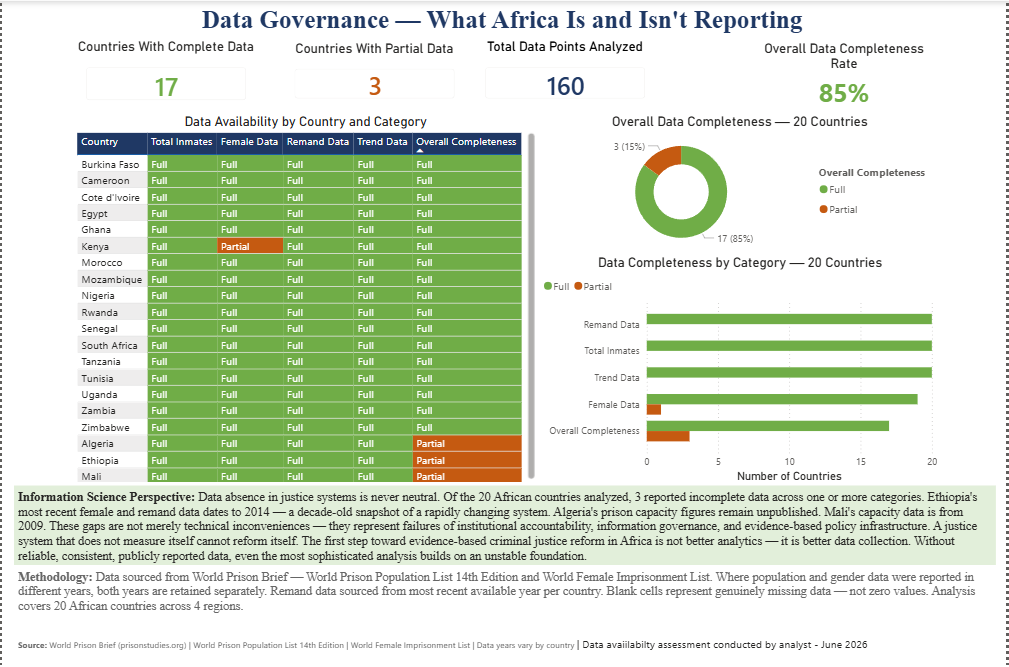

The dashboard page shown, as its layout file describes it:
{"tool":"powerbi","page":{"name":"Data Governance","canvas":[1280,850],"ordinal":4},"visuals":[{"type":"textbox","box":[121.4,0,1029.8,47],"z":0},{"type":"cardVisual","title":"Countries With Complete Data","fields":{"Data":["Data Availability Matrix.Full Data Countries"]},"box":[90.7,47,238,95.5],"z":1000},{"type":"cardVisual","title":"Countries With Partial Data","fields":{"Data":["Data Availability Matrix.Partial Data Countries"]},"box":[356.2,50.2,238,92.3],"z":2000},{"type":"cardVisual","title":"Total Data Points Analyzed","fields":{"Data":["Data Availability Matrix.Total Data Points"]},"box":[597.5,48.6,238,93.9],"z":3000},{"type":"textbox","title":"Overall Data Completeness Rate","box":[950.5,50.2,246.1,92.3],"z":4000},{"type":"tableEx","title":"Data Availability by Country and Category","fields":{"Values":["Data Availability Matrix.Country","Data Availability Matrix.Total Inmates","Data Availability Matrix.Female Data","Data Availability Matrix.Remand Data","Data Availability Matrix.Trend Data","Data Availability Matrix.Overall Completeness"]},"box":[90.7,142.5,594.3,474.4],"z":5000},{"type":"donutChart","title":"Overall Data Completeness — 20 Countries","fields":{"Y":["CountNonNull(Data Availability Matrix.Overall Completeness)"],"Category":["Data Availability Matrix.Overall Completeness"]},"box":[684.9,142.5,511.7,179.7],"z":6000},{"type":"clusteredBarChart","title":"Data Completeness by Category — 20 Countries","fields":{"Category":["Category Summary.Category"],"Y":["Sum(Category Summary.Full)","Sum(Category Summary.Partial)"]},"box":[684.3,323.1,512.3,294.4],"z":7000},{"type":"textbox","box":[14.6,616.9,1251.7,103.6],"z":8000},{"type":"textbox","box":[15.3,718.8,1252.1,72.6],"z":9000},{"type":"textbox","box":[15.3,804.8,1227.2,45.9],"z":9001}]}

Visuals, with their boxes in screenshot pixels (x1, y1, x2, y2), scaled from the page's 1280x850 canvas onto the 1009x667 screenshot:
textbox: l=96, t=0, r=907, b=37
"Countries With Complete Data" cardVisual: l=71, t=37, r=259, b=112
"Countries With Partial Data" cardVisual: l=281, t=39, r=468, b=112
"Total Data Points Analyzed" cardVisual: l=471, t=38, r=659, b=112
"Overall Data Completeness Rate" textbox: l=749, t=39, r=943, b=112
"Data Availability by Country and Category" tableEx: l=71, t=112, r=540, b=484
"Overall Data Completeness — 20 Countries" donutChart: l=540, t=112, r=943, b=253
"Data Completeness by Category — 20 Countries" clusteredBarChart: l=539, t=254, r=943, b=485
textbox: l=12, t=484, r=998, b=565
textbox: l=12, t=564, r=999, b=621
textbox: l=12, t=632, r=979, b=666
